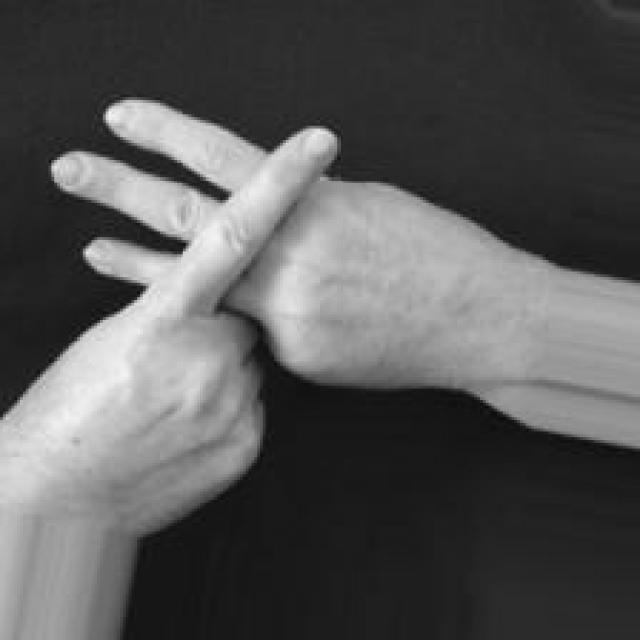E: (34, 84, 467, 533)
